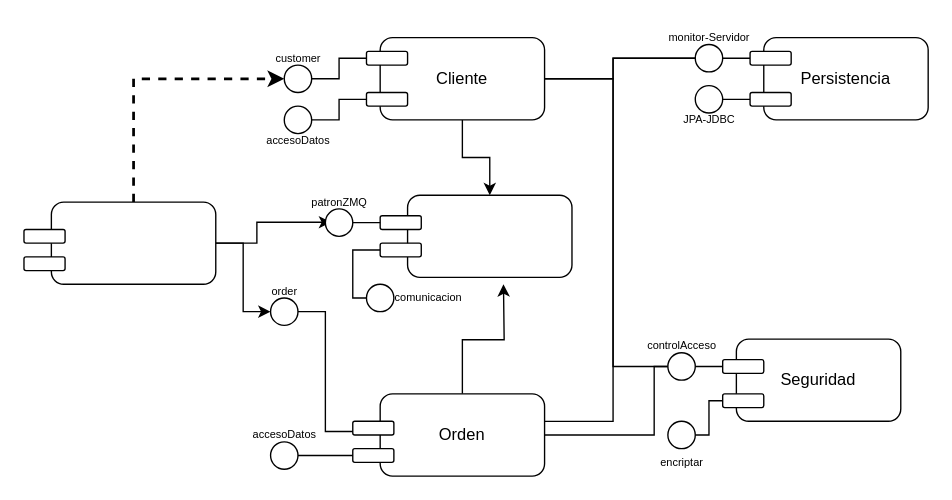
Some shapes in this 952 by 500 pixel diagram are drawn without their labels. The shapes that lost their labels are listed below. From the top down, each one's centre as x and y in pixels, then its label:
At pixel 133 242: "TiendaOnline".
At pixel 489 235: "Interacción".
